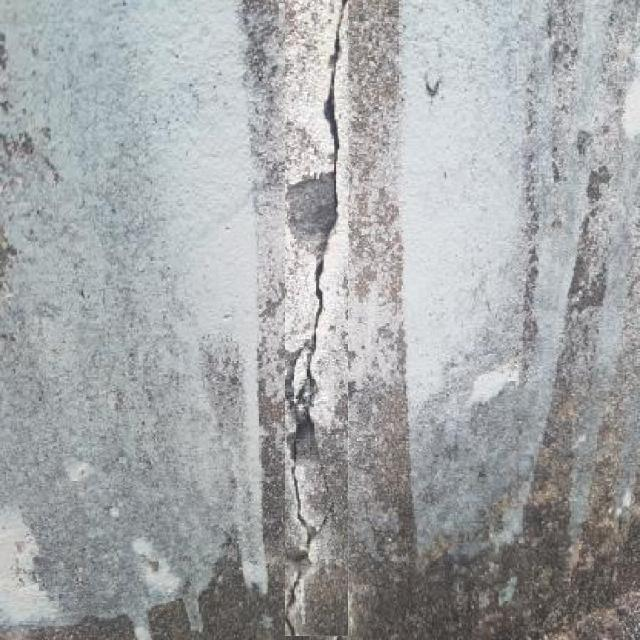vertical crack: (285, 0, 348, 635)
